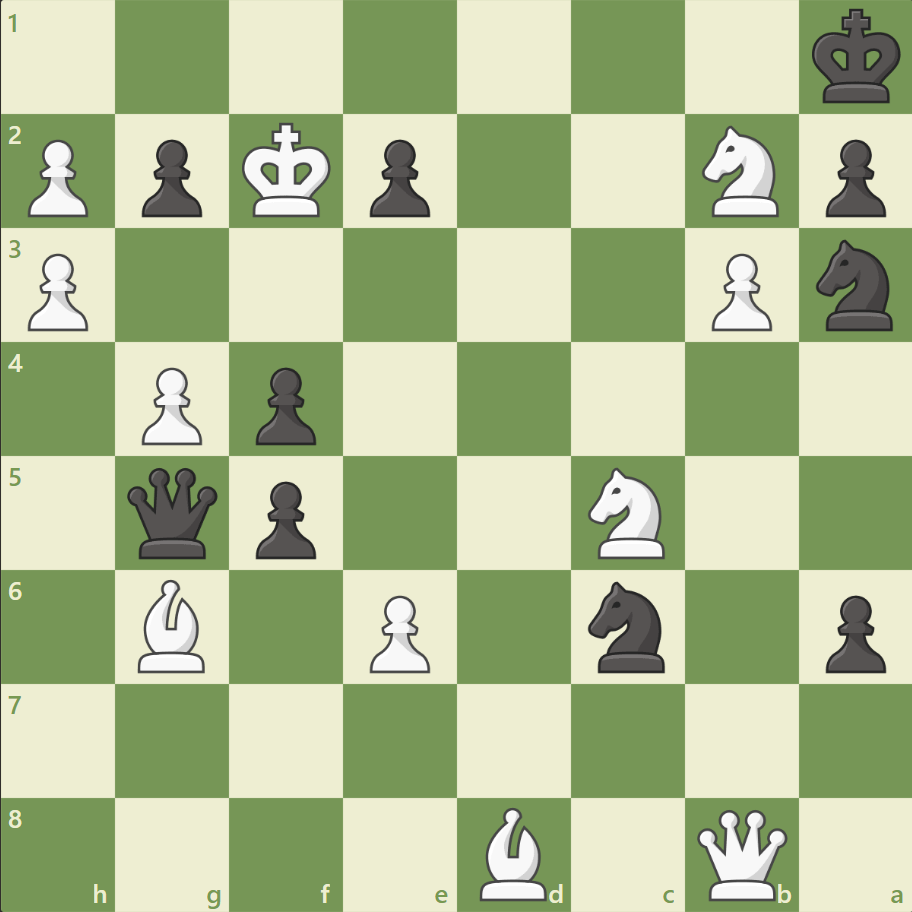B: (471, 801, 555, 904), (131, 574, 215, 676)
K: (238, 117, 338, 225)
N: (579, 461, 676, 564), (692, 121, 789, 223)
P: (133, 359, 208, 450), (701, 246, 776, 337), (20, 246, 95, 337), (20, 132, 95, 223), (361, 586, 435, 677)
Q: (691, 804, 790, 903)
k: (806, 4, 906, 112)
n: (806, 234, 903, 337), (579, 575, 676, 677)
p: (247, 473, 322, 564), (247, 359, 322, 450), (133, 132, 208, 223), (815, 586, 889, 677), (815, 132, 889, 223), (361, 132, 435, 223)
q: (124, 463, 223, 562)
